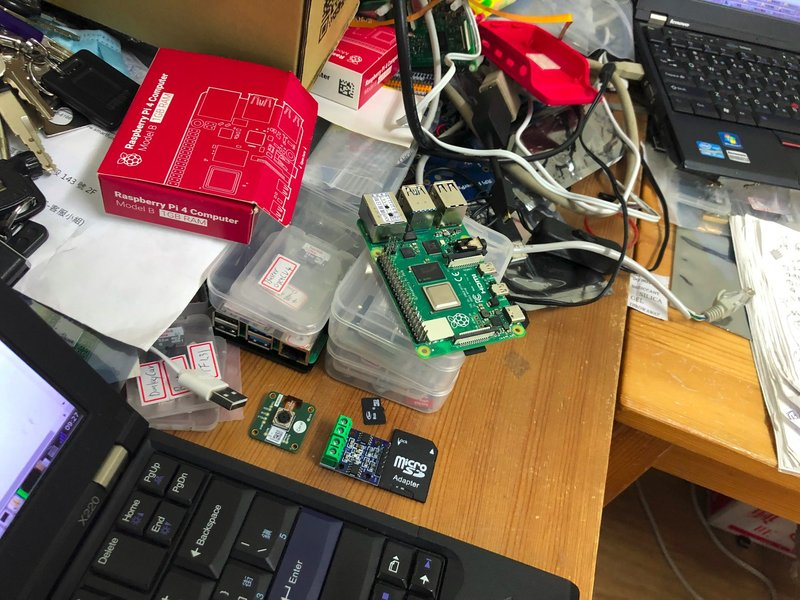pi: (350, 174, 534, 362)
